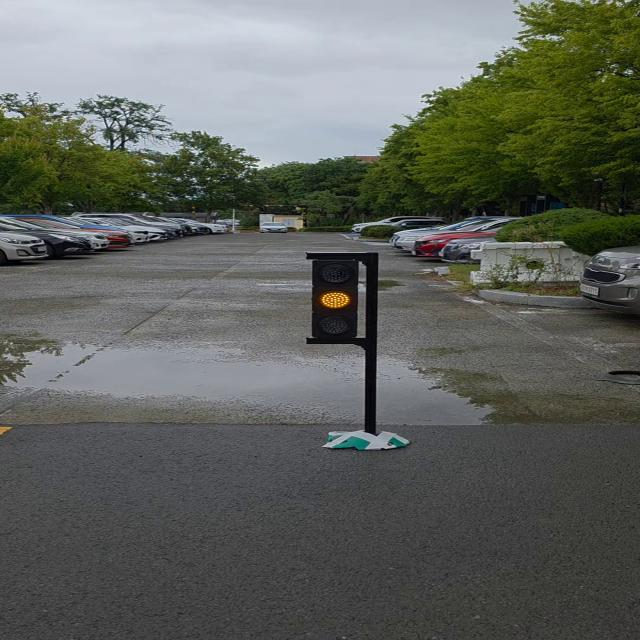yellow: (308, 256, 363, 342)
